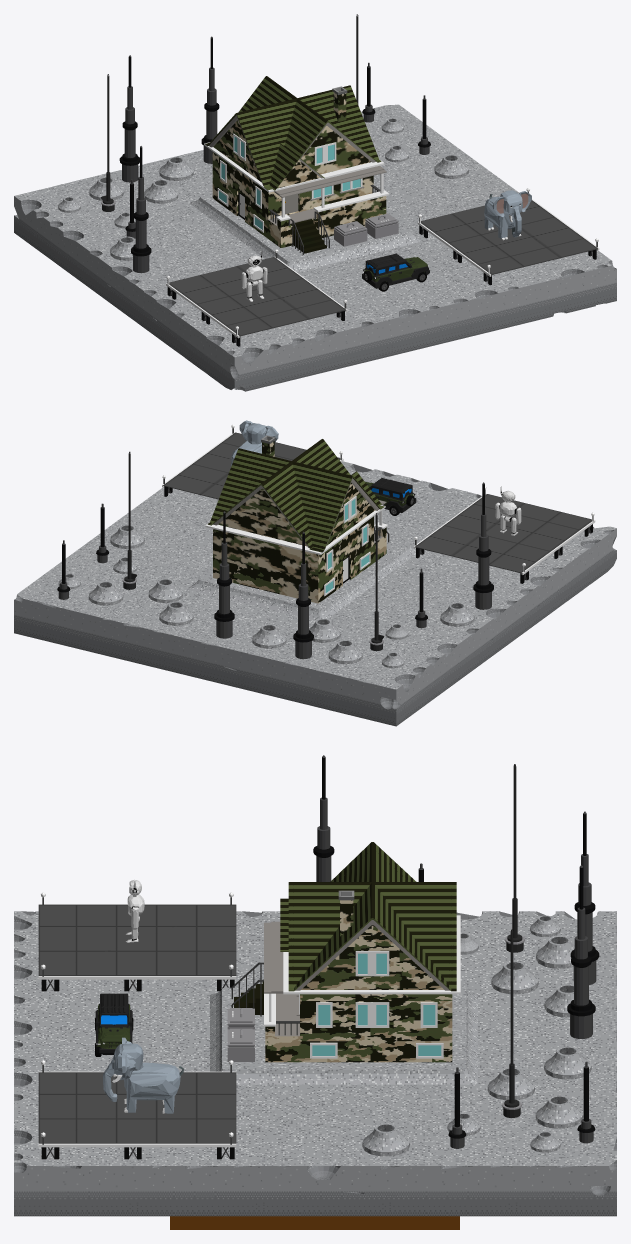
3 renders of one model, top to bottom at view 1: azimuth 30°, elevation 25°; view 2: azimuth 150°, elevation 25°; view 3: azimuth 270°, elevation 25°, orthographic. The views are drawn at different scales.
Visible parts, largest first — view 1: Cube.027, Cube.002, Cube.025, Cube.026, Cube.028, VEHICLES_JEEP, ANIMAL_ELEFANTE, Cylinder.020, Cylinder.021, Cylinder.017, OBJRANDOM_PLATZEEBOT, Cube.029 (+6 smaller); view 2: Cube.027, Cube.002, Cube.025, Cube.028, Cube.026, Cylinder.017, Cylinder.021, Cylinder.020, VEHICLES_JEEP, ANIMAL_ELEFANTE, OBJRANDOM_PLATZEEBOT, Cylinder.031 (+9 smaller); view 3: Cube.027, Cube.002, Cube.025, Cube.026, Cube.028, UNDERGROUND_ART_PIECE_VAN_GOGH, ANIMAL_ELEFANTE, Cylinder.017, VEHICLES_JEEP, Cylinder.020, Cylinder.021, Cylinder.031 (+12 smaller).
Part boxes in pixels (x1,y1,x2,y2): Cube.027: (14,104,616,391); Cube.002: (204,76,389,254); Cube.025: (166,249,347,346); Cube.026: (417,188,599,285); Cube.028: (190,193,421,271); VEHICLES_JEEP: (362,253,429,291); ANIMAL_ELEFANTE: (484,190,531,240); Cylinder.020: (119,55,139,182); Cylinder.021: (131,146,151,273); Cylinder.017: (201,36,219,163); OBJRANDOM_PLATZEEBOT: (241,251,267,301); Cube.029: (334,221,367,246); Cube.027: (14,461,616,726); Cube.002: (205,435,389,603); Cube.025: (413,486,595,583); Cube.028: (188,538,415,620); Cube.026: (162,425,343,499); Cylinder.017: (214,511,234,638); Cylinder.021: (473,482,493,609); Cylinder.020: (293,531,313,659); VEHICLES_JEEP: (365,477,416,515); ANIMAL_ELEFANTE: (231,420,278,466); OBJRANDOM_PLATZEEBOT: (495,486,521,535); Cylinder.031: (88,581,123,605); Cube.027: (14,911,616,1216); Cube.002: (231,842,460,1062); Cube.025: (38,892,236,991); Cube.026: (38,1060,236,1159); Cube.028: (210,987,477,1084); UNDERGROUND_ART_PIECE_VAN_GOGH: (170,1216,459,1229); ANIMAL_ELEFANTE: (103,1037,183,1113); Cylinder.017: (567,865,595,1038); VEHICLES_JEEP: (95,993,133,1056); Cylinder.020: (570,811,599,984); Cylinder.021: (313,755,334,881); Cylinder.031: (535,1095,583,1128).
Size of the model in its own units: 4000 by 1925 by 4000.
35 materials, 7 textured.
